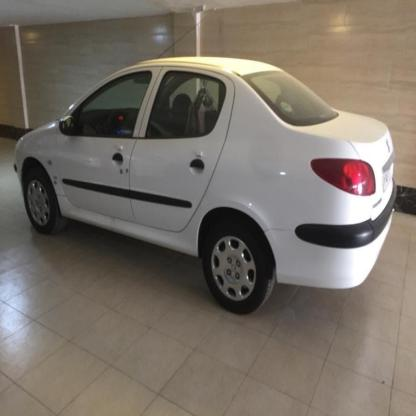Car: (2, 57, 415, 323)
